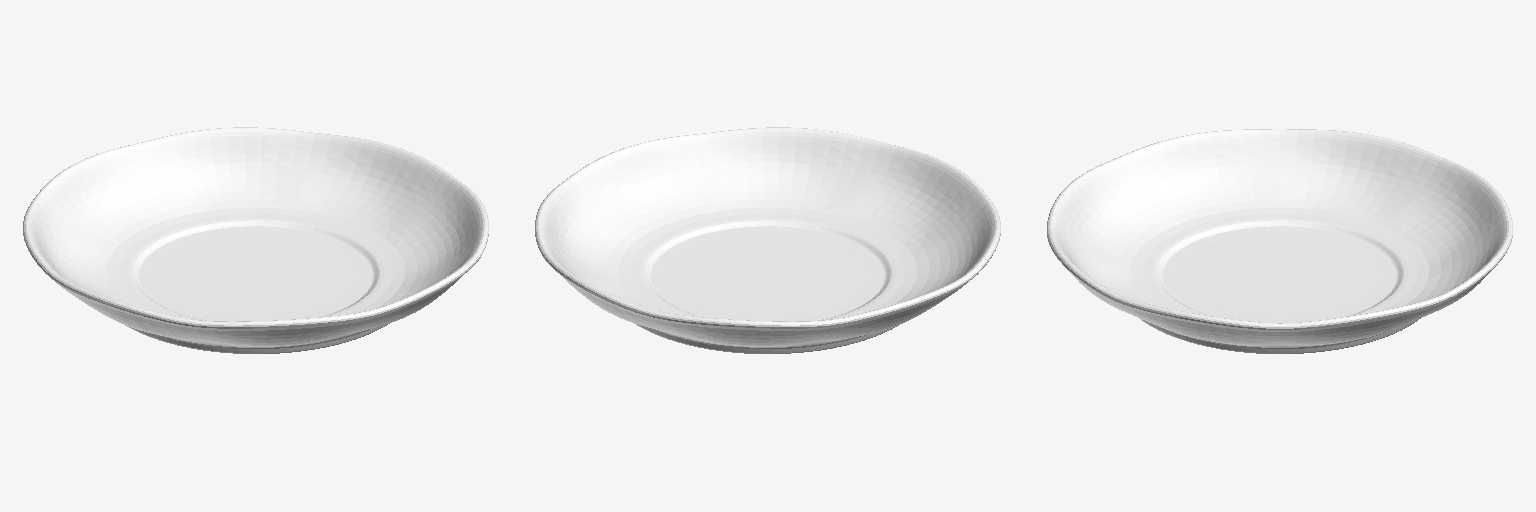
File: Plate.obj
3 renders of one model, left to right at view 1: azimuth 30°, elevation 25°; view 2: azimuth 150°, elevation 25°; view 3: azimuth 270°, elevation 25°, orthographic.
Parts seen in each view (by area): view 1: zzz; view 2: zzz; view 3: zzz.
Boxes of the visible parts, <box> form: zzz: <box>23,127,488,353</box>; zzz: <box>535,127,1000,353</box>; zzz: <box>1047,129,1512,353</box>.
Size of the model in its own units: 139 by 20.97 by 139.